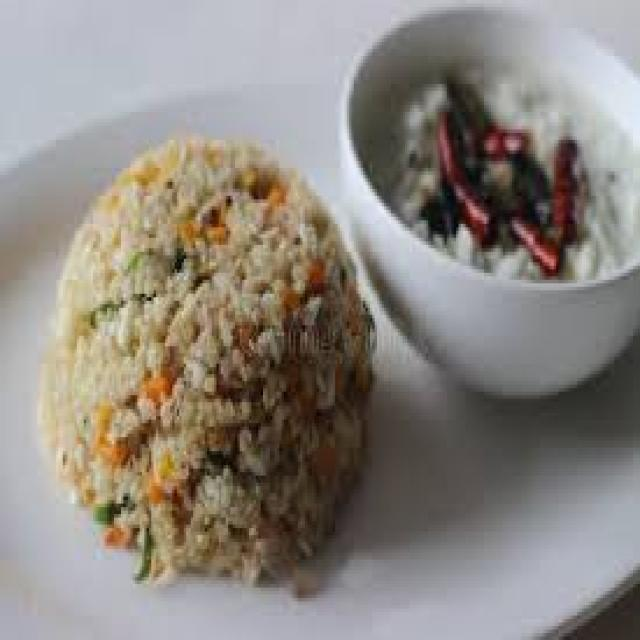UPMA: (35, 133, 372, 577)
